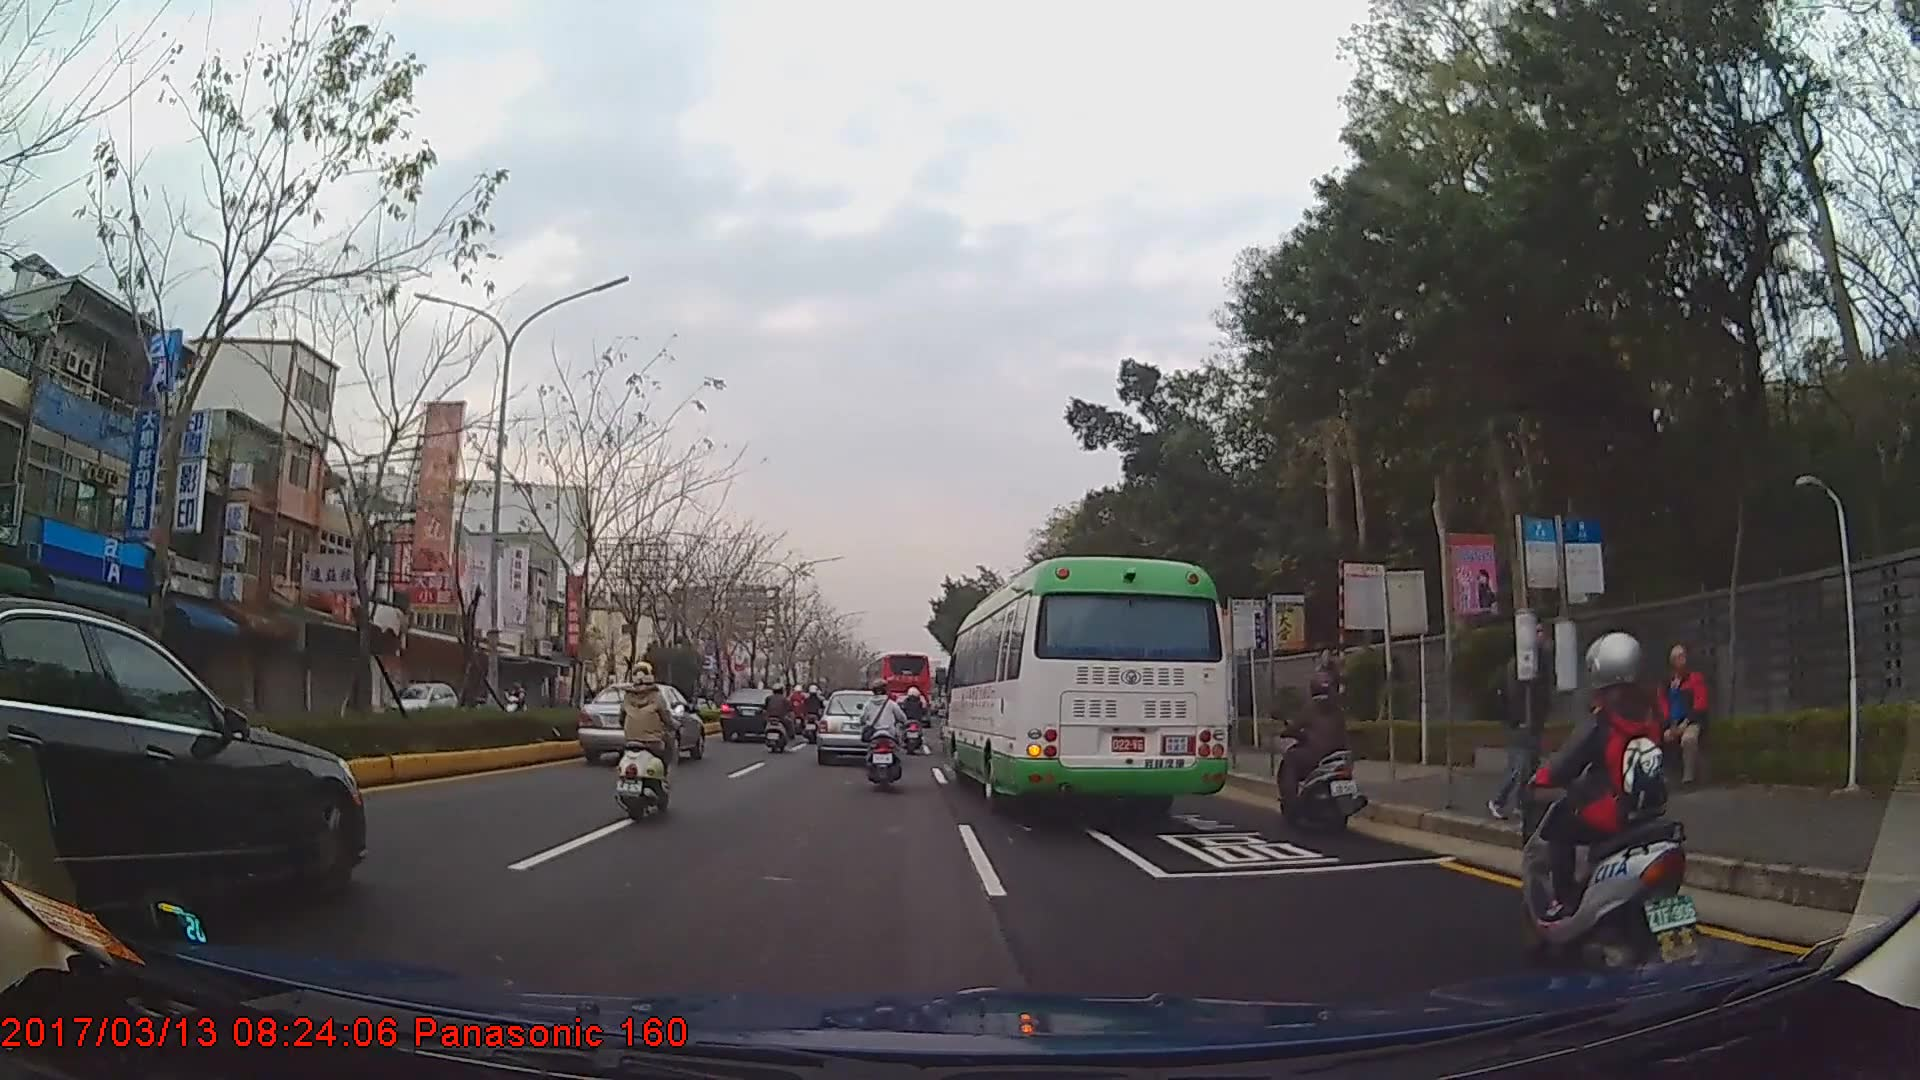pedestrian: (1492, 622, 1554, 821), (1305, 647, 1353, 763)
rider: (1515, 623, 1699, 949), (1268, 669, 1366, 830), (614, 658, 680, 831), (857, 678, 909, 789), (762, 685, 795, 753), (901, 685, 930, 737), (803, 684, 825, 743), (505, 682, 527, 714)
vehicle: (0, 595, 366, 958), (944, 553, 1230, 813), (577, 680, 705, 764), (815, 689, 892, 762), (863, 649, 931, 718), (375, 675, 462, 726), (720, 682, 793, 741)
